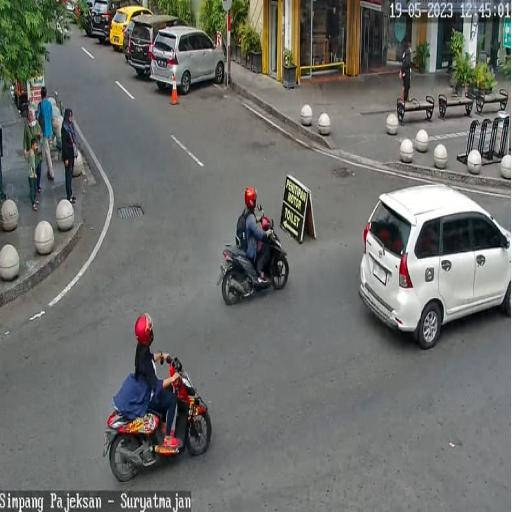mobil: (358, 170, 512, 350), (151, 20, 223, 100), (131, 13, 187, 74)
motor: (97, 345, 214, 482), (211, 212, 292, 310)
